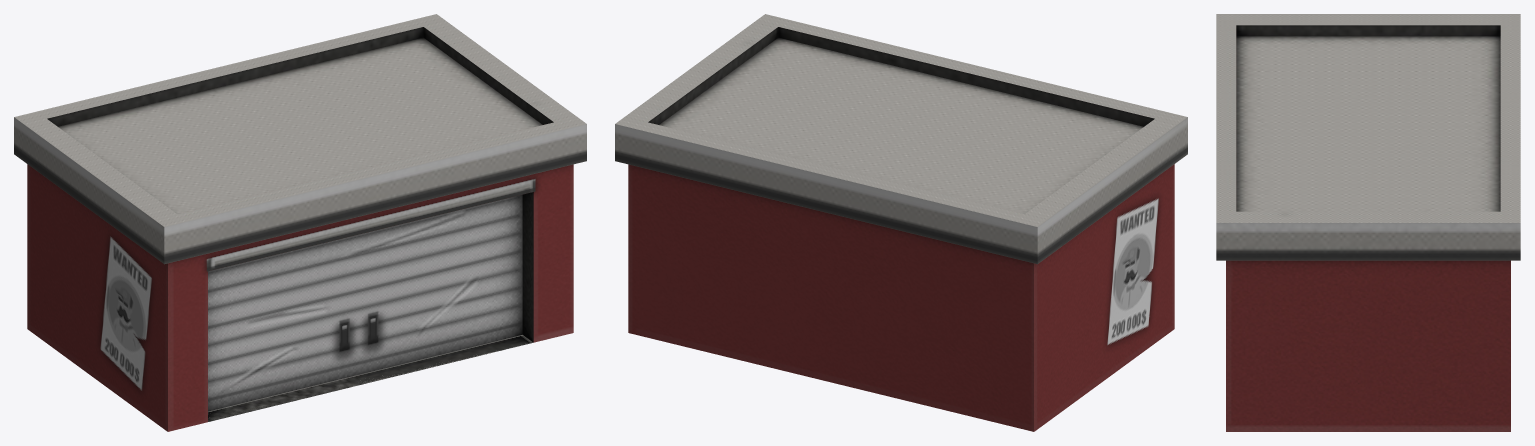
Rendered from House_Garage.FBX.
3 views of the same model, side by side, from view 1: azimuth 30°, elevation 25°; view 2: azimuth 150°, elevation 25°; view 3: azimuth 270°, elevation 25° (orthographic).
Parts seen in each view (by area): view 1: large_windowOrGarage; view 2: large_windowOrGarage; view 3: large_windowOrGarage.
Part boxes in pixels (left/top/right/bottom): large_windowOrGarage: left=14, top=14, right=586, bottom=431; large_windowOrGarage: left=615, top=14, right=1187, bottom=431; large_windowOrGarage: left=1216, top=14, right=1520, bottom=431.
Bounding box in the file's own units: 521 × 248 × 321.
